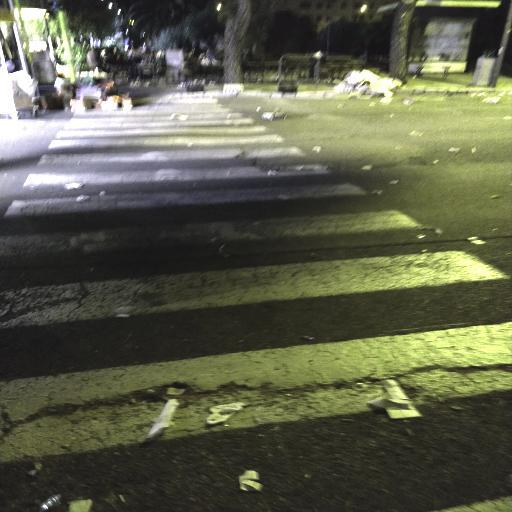crosswalk: (0, 158, 400, 222)
